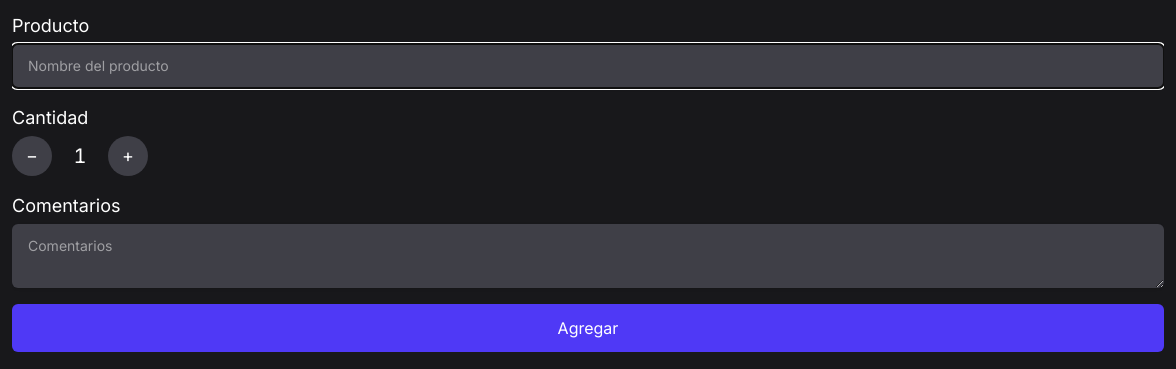
Test case: AddItemForm › increments quantity when pressing + button
Click the button "+" at [128, 156], box [108,136,148,176]
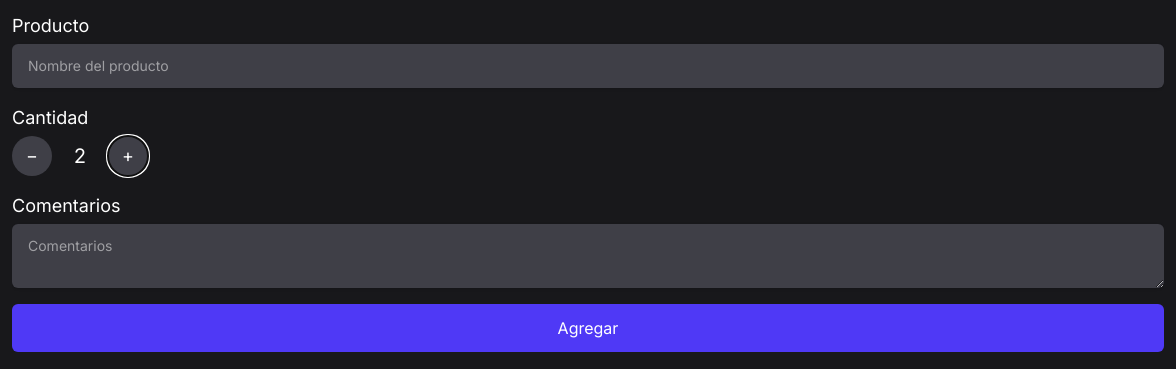
Now the text "2" is shown, box [74,144,86,168]
